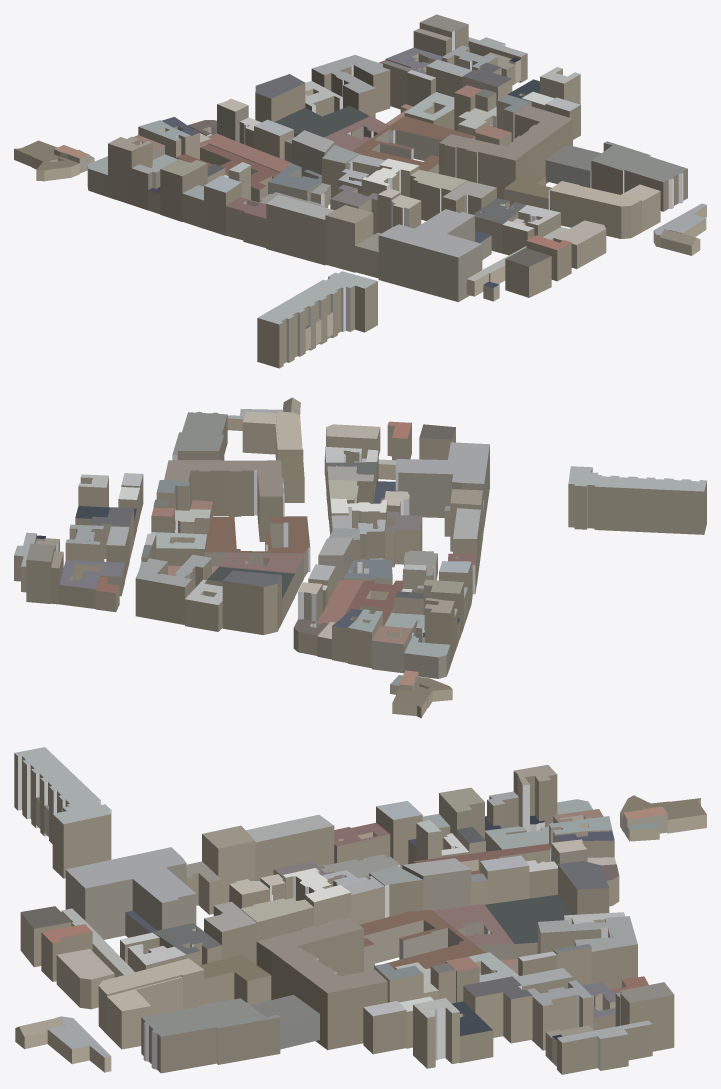
3 renders of one model, top to bottom at view 1: azimuth 30°, elevation 25°; view 2: azimuth 150°, elevation 25°; view 3: azimuth 270°, elevation 25°, orthographic. The views are drawn at different scales.
Visible parts, largest first — view 1: tuile; view 2: tuile; view 3: tuile.
Boxes of the visible parts, x1,y1,x2,y2 form: tuile: (14,14,706,368); tuile: (14,397,706,718); tuile: (14,747,706,1074).
Bounding box in the file's own units: 273 × 31.56 × 276.
